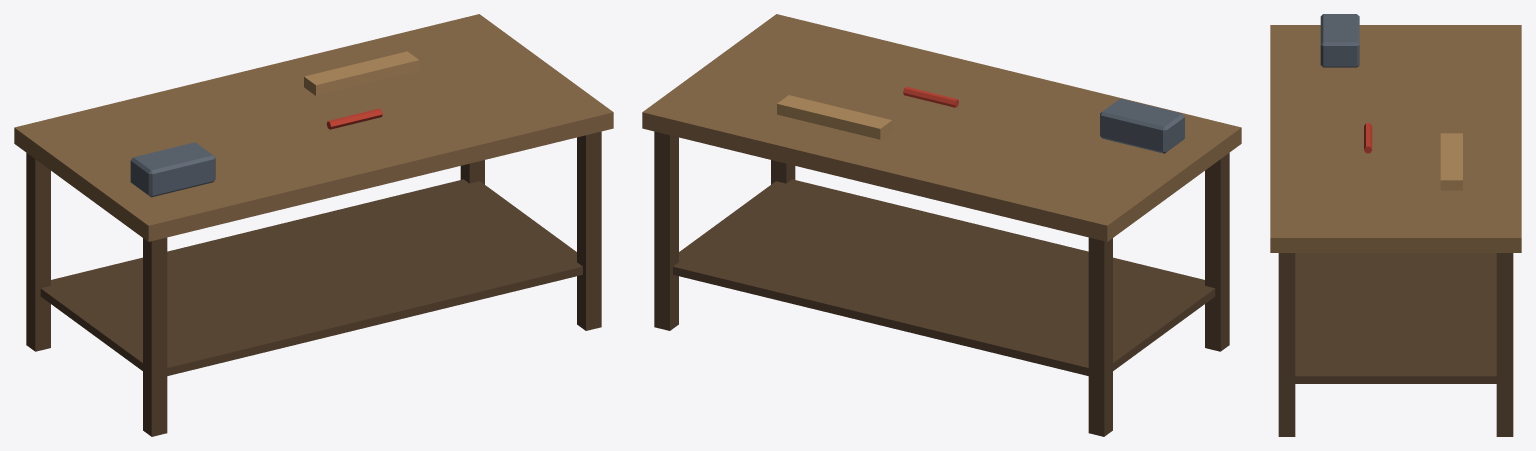
Rendered from workbench.fbx.
The picture shows the model from 3 angles, left to right: view 1: azimuth 30°, elevation 25°; view 2: azimuth 150°, elevation 25°; view 3: azimuth 270°, elevation 25°; orthographic projection. The views are drawn at different scales.
Visible parts, largest first — view 1: workbench; view 2: workbench; view 3: workbench.
Boxes of the visible parts, <box> form: workbench: <box>14,14,613,436</box>; workbench: <box>642,14,1241,436</box>; workbench: <box>1270,14,1521,436</box>.
Size of the model in its own units: 1.8 by 0.9 by 0.9.
